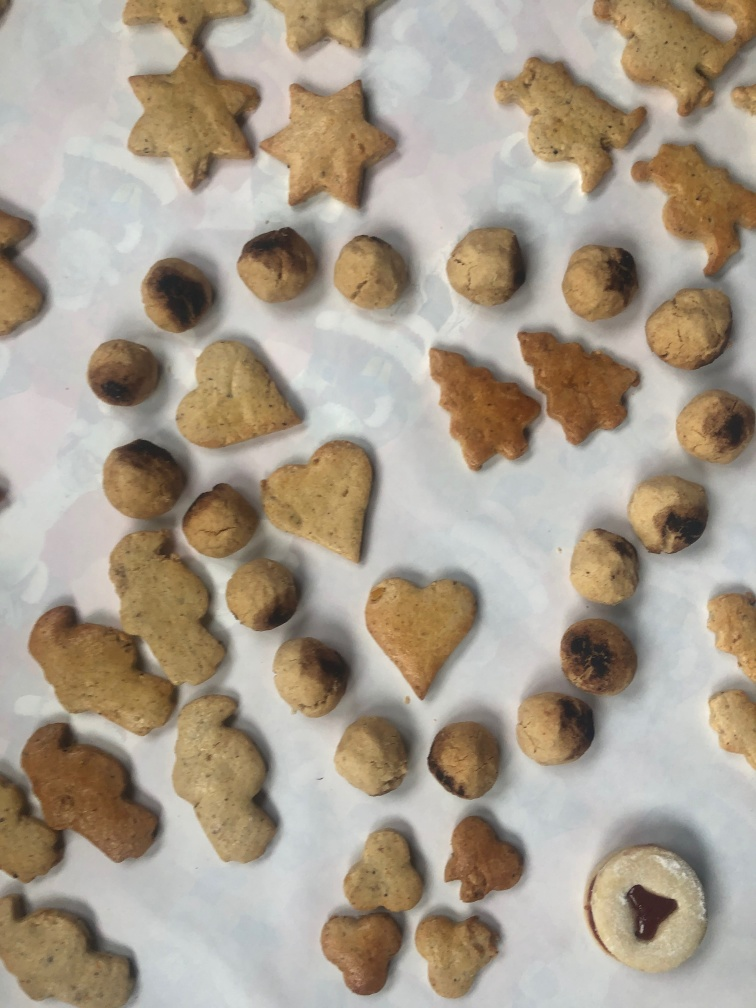christmas shortbread with jam: (581, 841, 712, 982)
christmas tree: (422, 334, 546, 479), (510, 317, 644, 448)
flake: (414, 905, 517, 1008), (320, 897, 421, 994), (441, 808, 530, 911), (341, 818, 430, 912)
heart: (363, 559, 488, 697), (257, 436, 381, 567), (173, 332, 308, 452)
santa claus: (492, 48, 649, 205), (23, 595, 178, 744), (19, 716, 166, 866), (103, 512, 231, 684), (169, 684, 288, 866), (588, 1, 745, 121), (631, 134, 755, 276), (2, 882, 141, 1008)
snowball: (646, 283, 742, 367), (622, 468, 716, 553), (268, 629, 351, 724), (233, 223, 320, 313), (98, 438, 194, 517), (673, 383, 756, 471), (558, 615, 642, 699), (513, 684, 599, 766), (330, 713, 417, 794), (137, 250, 219, 334), (445, 222, 531, 301), (83, 329, 166, 407), (332, 232, 410, 314), (425, 718, 508, 794), (559, 243, 649, 313), (225, 555, 304, 634), (181, 484, 260, 560), (568, 525, 642, 606)
snowman: (702, 577, 756, 675), (703, 671, 755, 772)
star: (259, 69, 405, 216), (125, 43, 263, 194), (266, 1, 398, 58), (122, 1, 255, 43)
